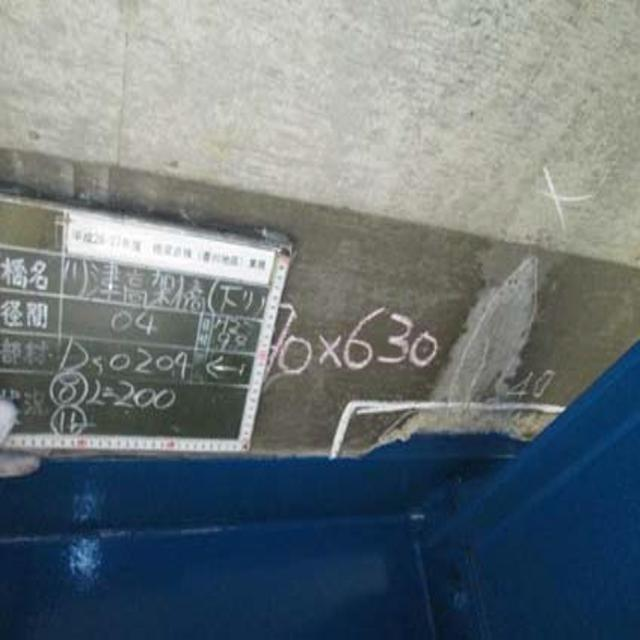freelime: (380, 229, 561, 454)
